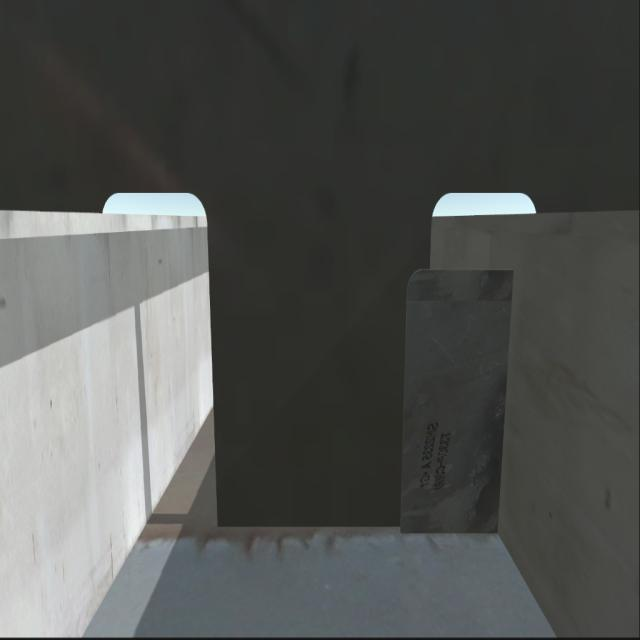fillet_yong_jeop_jang: (209, 516, 499, 540)
longi_yong_jeop_jang: (488, 264, 516, 548)
plate_CP05: (398, 268, 513, 530)
